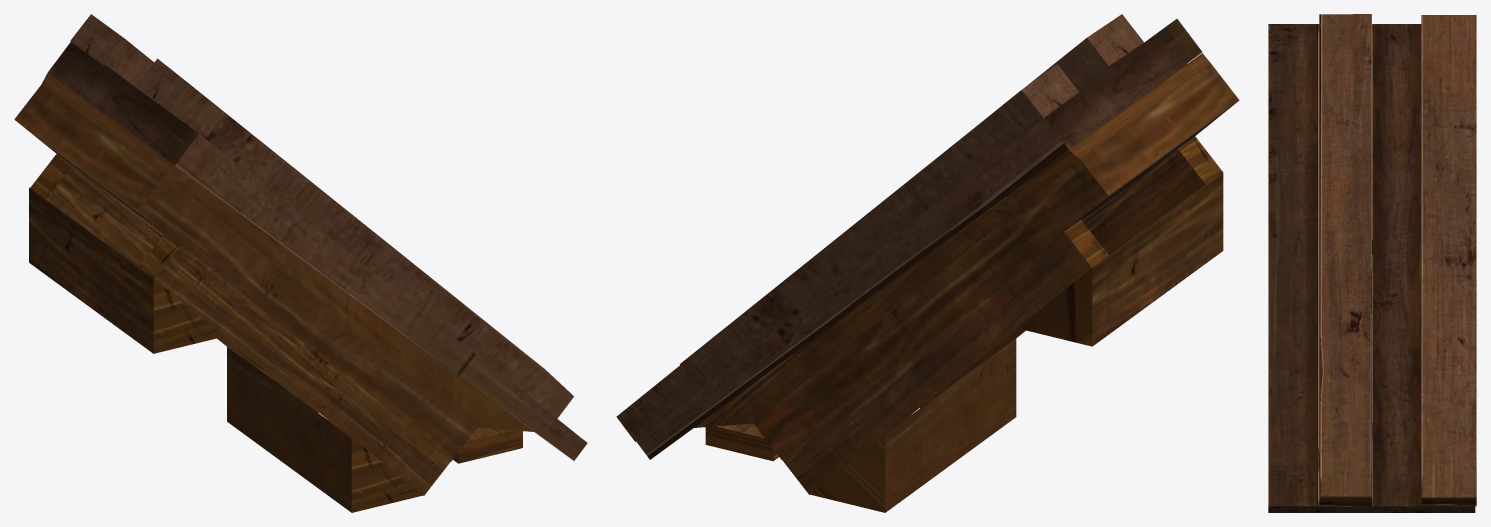
The picture shows the model from 3 angles, left to right: view 1: azimuth 30°, elevation 25°; view 2: azimuth 150°, elevation 25°; view 3: azimuth 270°, elevation 25°; orthographic projection. The views are drawn at different scales.
Visible parts, largest first — view 1: SM_BB_T2_Roof_Small_LOD0; view 2: SM_BB_T2_Roof_Small_LOD0; view 3: SM_BB_T2_Roof_Small_LOD0.
Part boxes in pixels (x1,y1,x2,y2): SM_BB_T2_Roof_Small_LOD0: (14, 14, 587, 512); SM_BB_T2_Roof_Small_LOD0: (616, 14, 1239, 512); SM_BB_T2_Roof_Small_LOD0: (1268, 14, 1476, 512).
Size of the model in its own units: 1.63 by 1.47 by 0.7705.
Materials: 2 (2 with a texture image).
